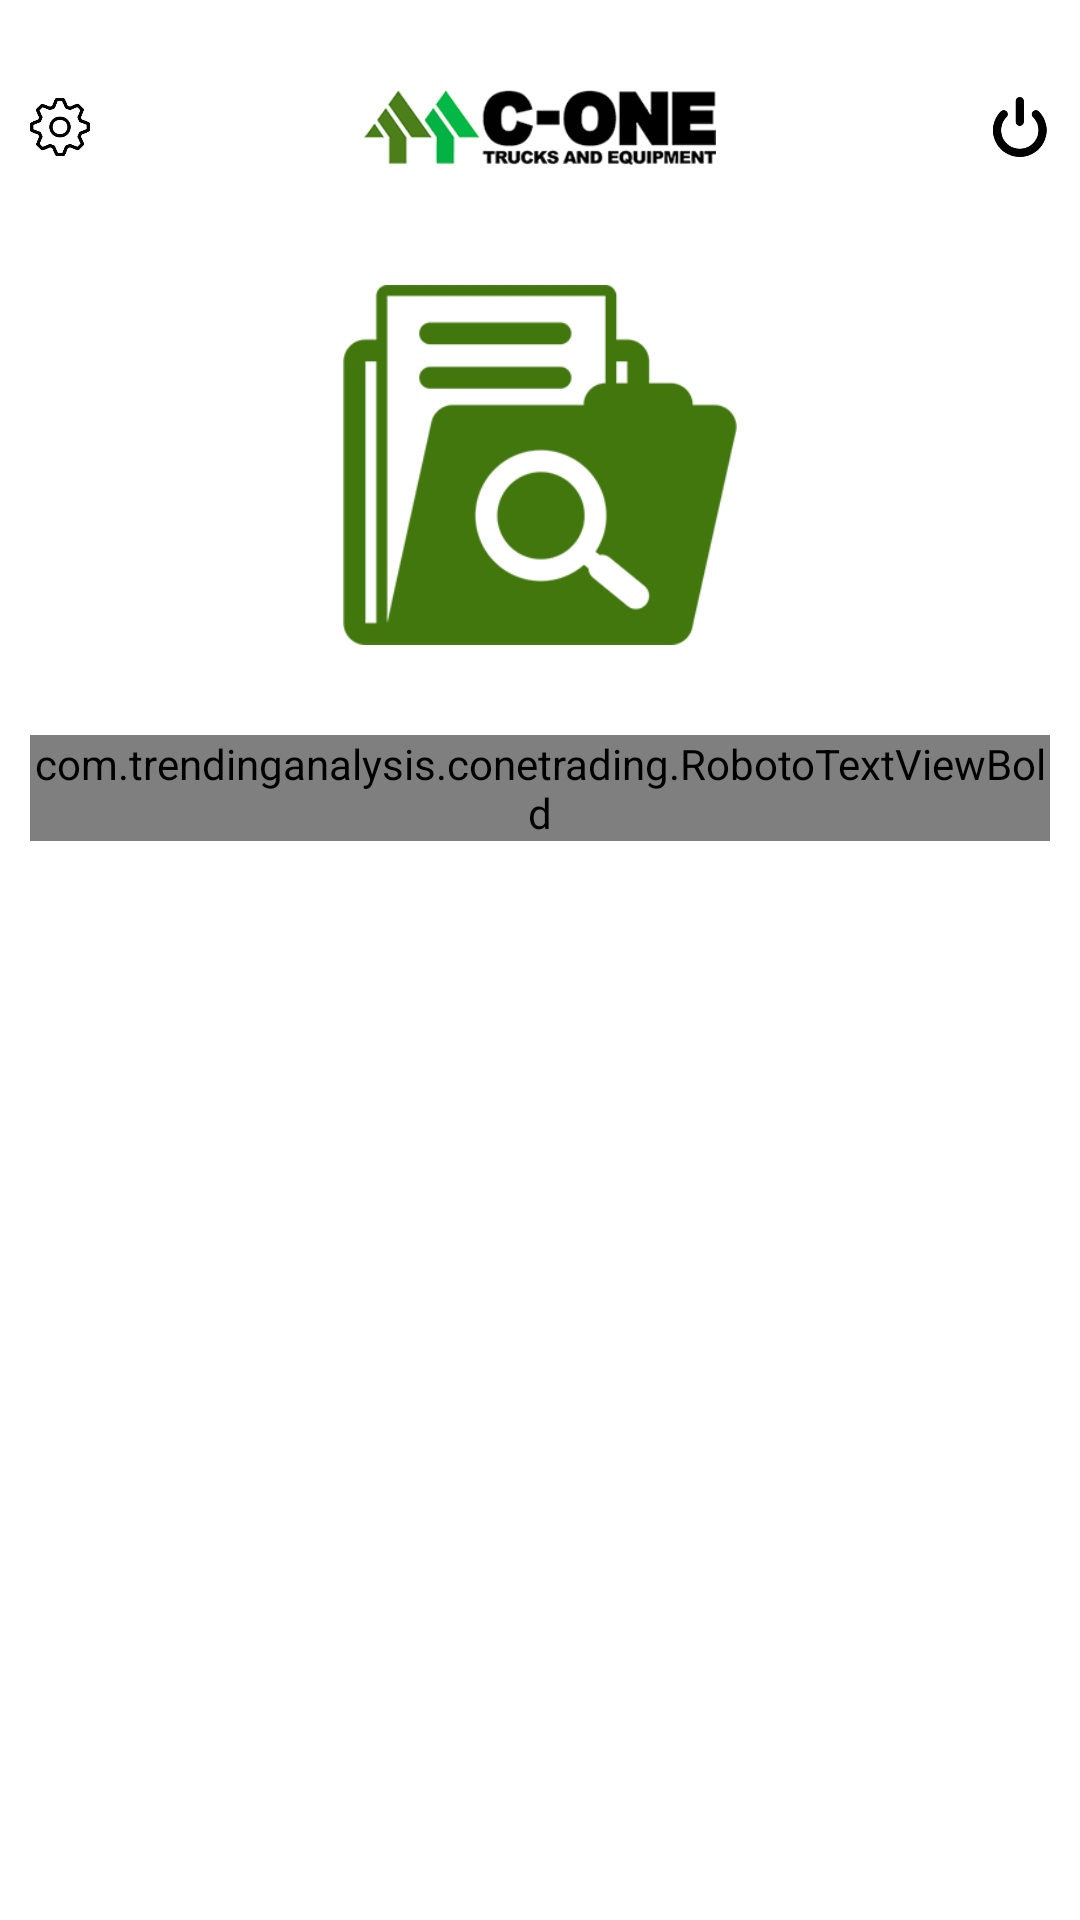

Screen size 1080*1920. Icon name, then its center in pixels as (x,y):
settings: (60,127)
